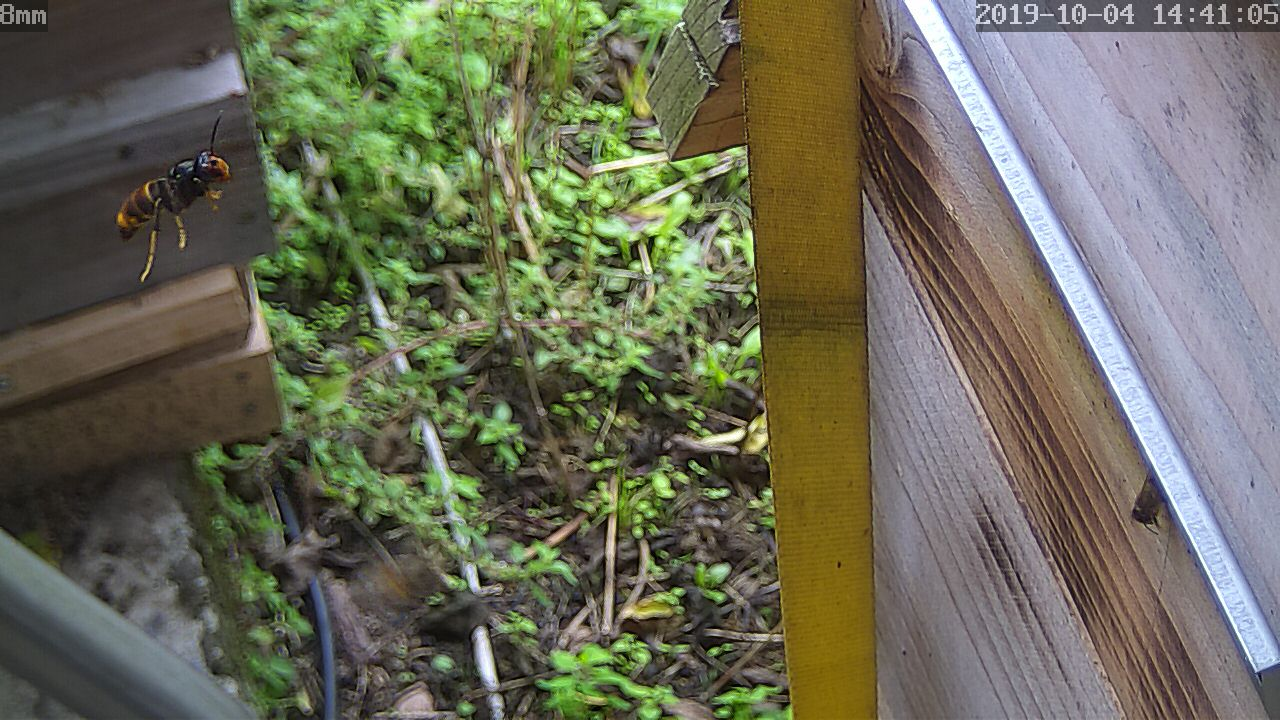bee: (1112, 471, 1175, 537)
hornet: (106, 141, 235, 253)
